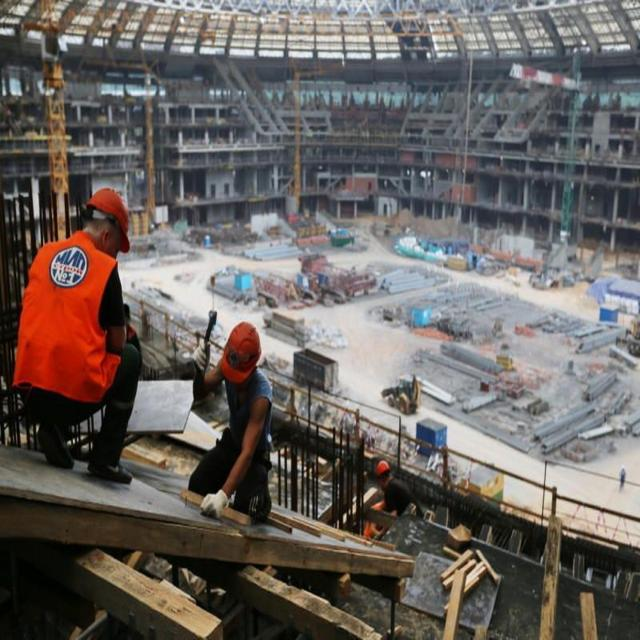Helmet: (87, 190, 133, 255), (221, 323, 264, 385), (376, 462, 392, 479)
Jacket: (31, 245, 112, 396)
NoJacket: (233, 385, 268, 468)
